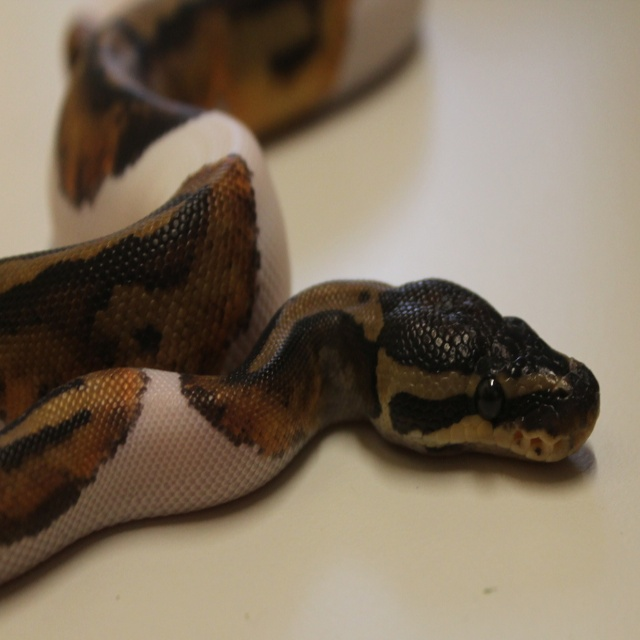Snake: (0, 0, 600, 606)
